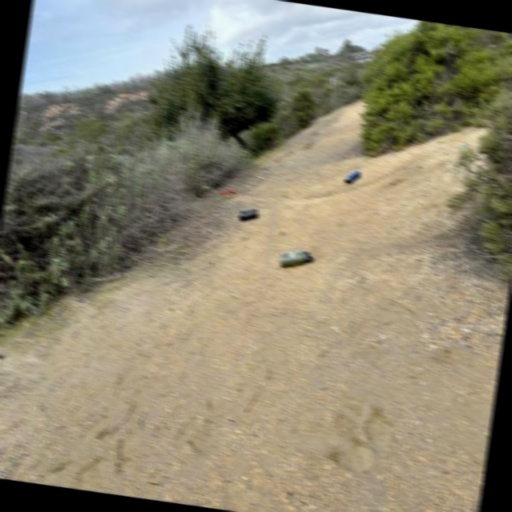bottle: (276, 246, 315, 274), (343, 166, 363, 190)
mallet: (218, 183, 238, 203)
